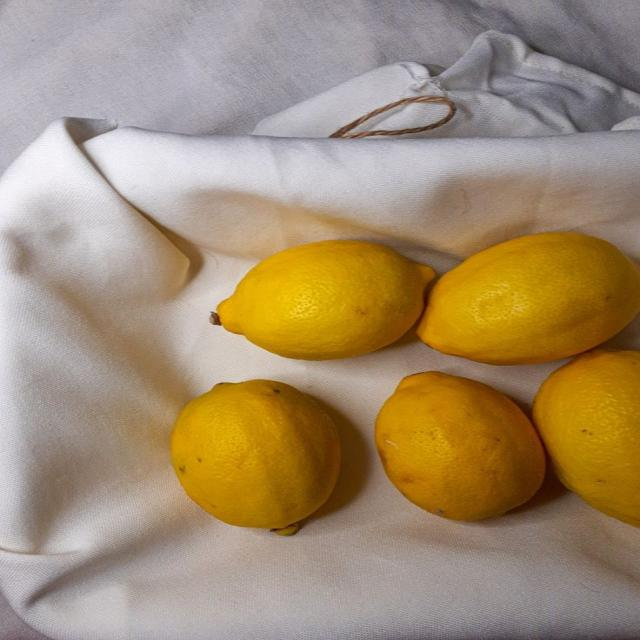lemon: (418, 233, 639, 364), (171, 380, 339, 534), (217, 241, 434, 360), (376, 372, 545, 520), (534, 350, 639, 526)
